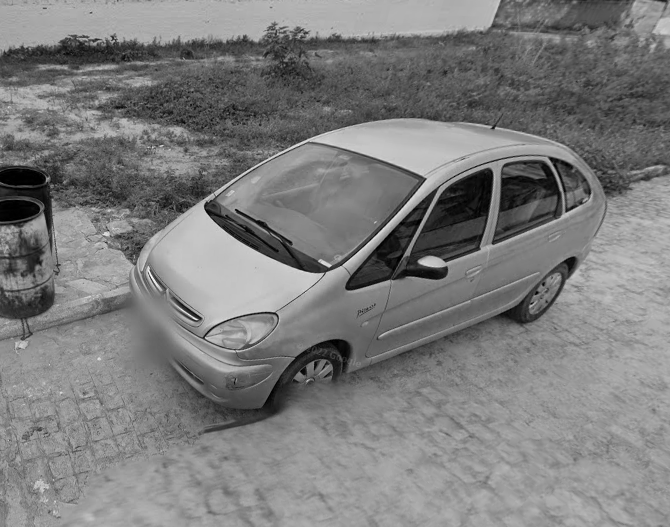car: (127, 114, 611, 419)
